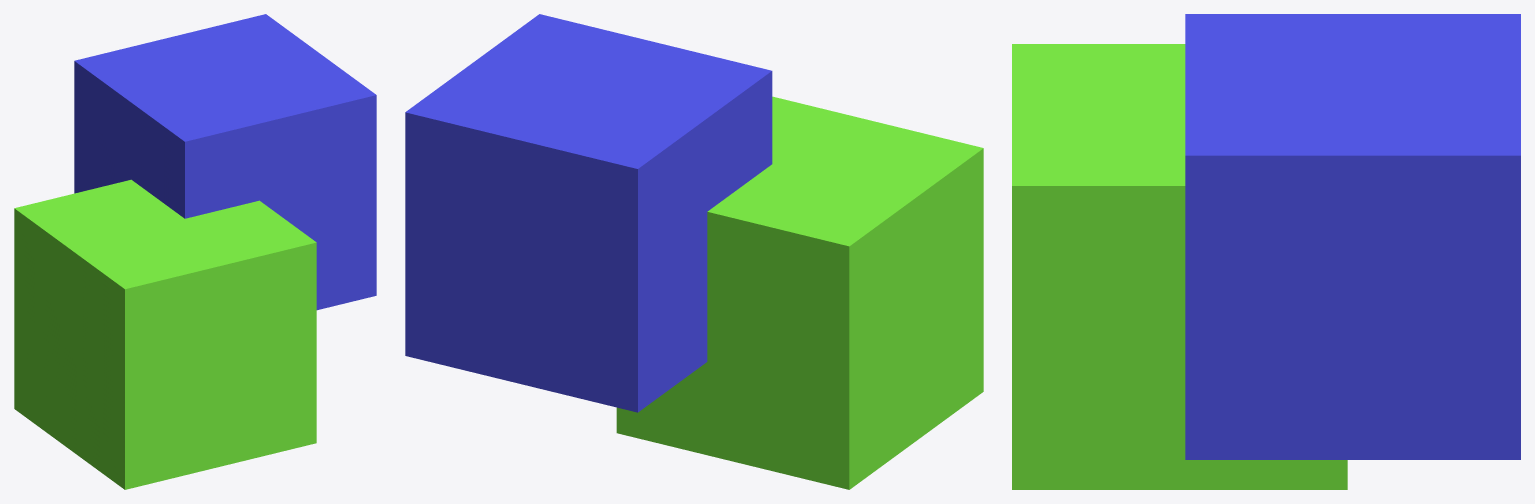
Rendered from MultiCube.fbx.
3 renders of one model, left to right at view 1: azimuth 30°, elevation 25°; view 2: azimuth 150°, elevation 25°; view 3: azimuth 270°, elevation 25°, orthographic. The views are drawn at different scales.
Visible parts, largest first — view 1: Cube_2; view 2: Cube_2; view 3: Cube_2.
Boxes of the visible parts, x1,y1,x2,y2 form: Cube_2: (14,14,376,489); Cube_2: (405,14,983,489); Cube_2: (1012,14,1520,489).
Bounding box in the file's own units: 322 × 277 × 303.
